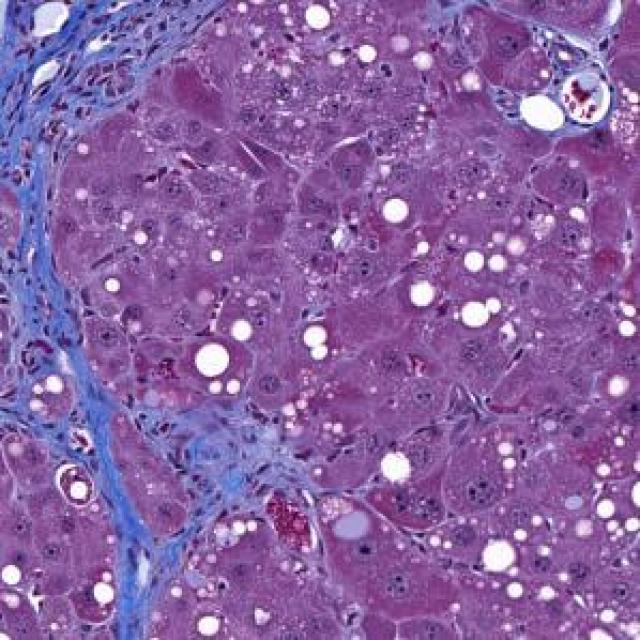fibrosis: (11, 285, 293, 537), (11, 17, 167, 199)
